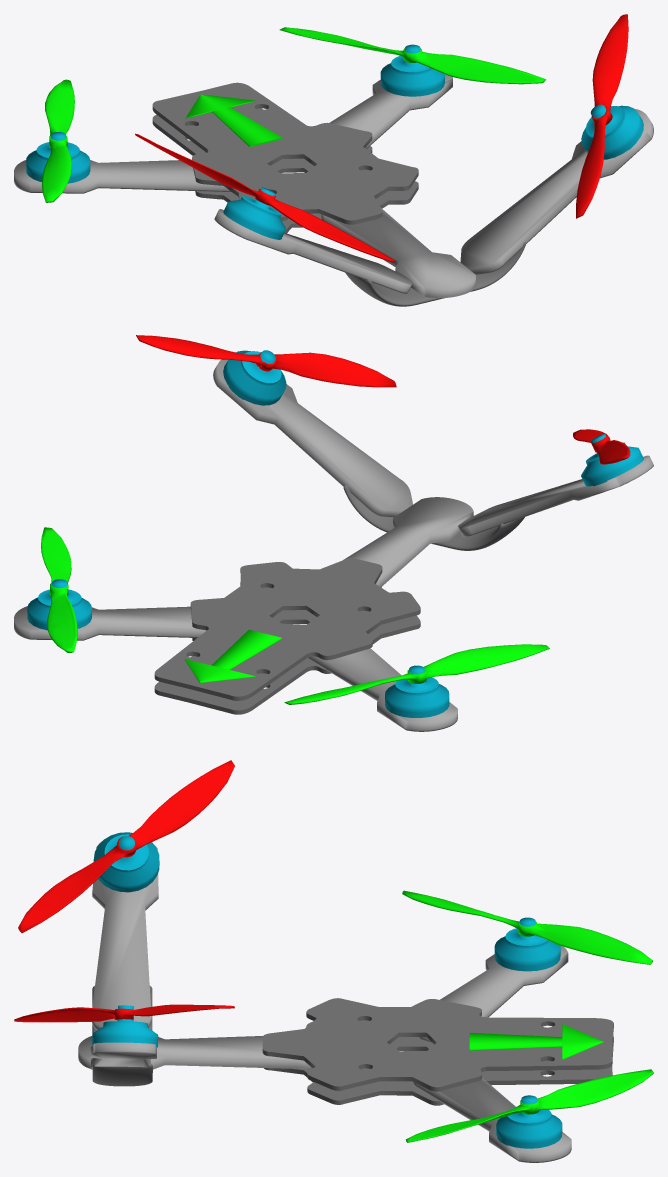
File: quad_vtail.gltf
The picture shows the model from 3 angles, top to bottom: view 1: azimuth 30°, elevation 25°; view 2: azimuth 150°, elevation 25°; view 3: azimuth 270°, elevation 25°; orthographic projection. The views are drawn at different scales.
Bounding box in the file's own units: 7.83 × 2.66 × 8.43.
